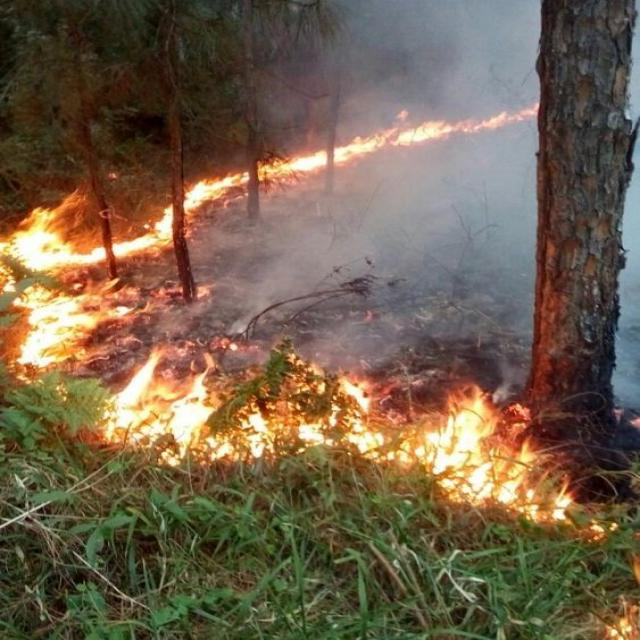fire: (0, 114, 591, 533)
